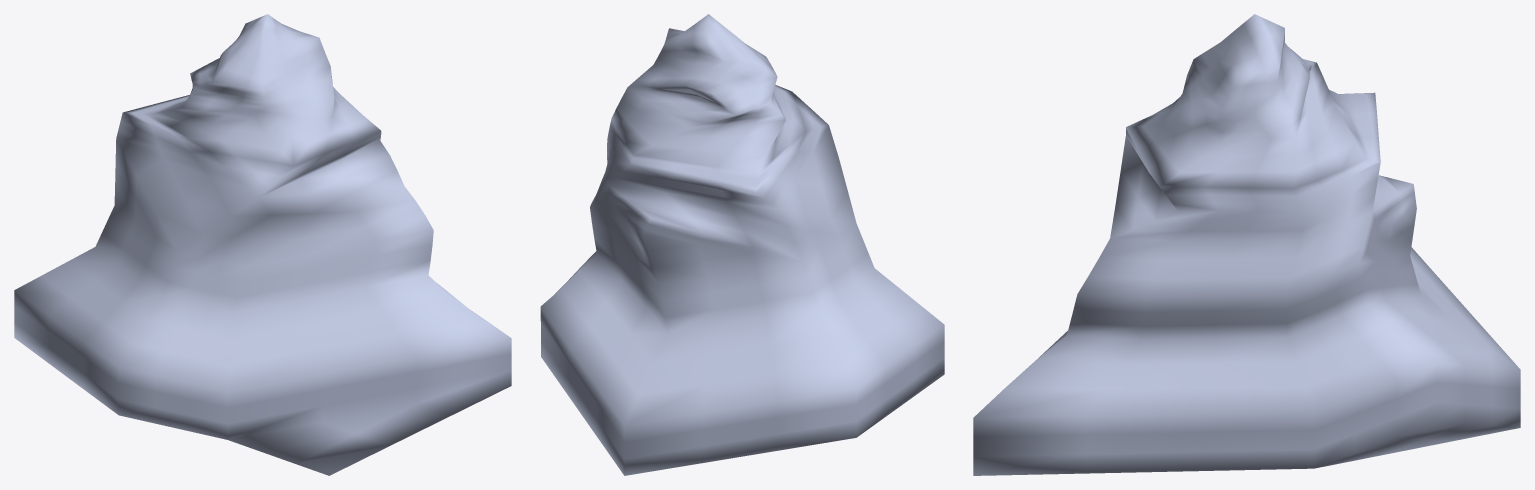
File: iceberg.glb
3 views of the same model, side by side, from view 1: azimuth 30°, elevation 25°; view 2: azimuth 150°, elevation 25°; view 3: azimuth 270°, elevation 25° (orthographic). The views are drawn at different scales.
Visible parts, largest first — view 1: Cylinder; view 2: Cylinder; view 3: Cylinder.
Boxes of the visible parts, x1,y1,x2,y2 form: Cylinder: [14, 14, 511, 475]; Cylinder: [540, 14, 944, 475]; Cylinder: [973, 14, 1520, 475].
Bounding box in the file's own units: 45.03 × 51.22 × 54.09.
